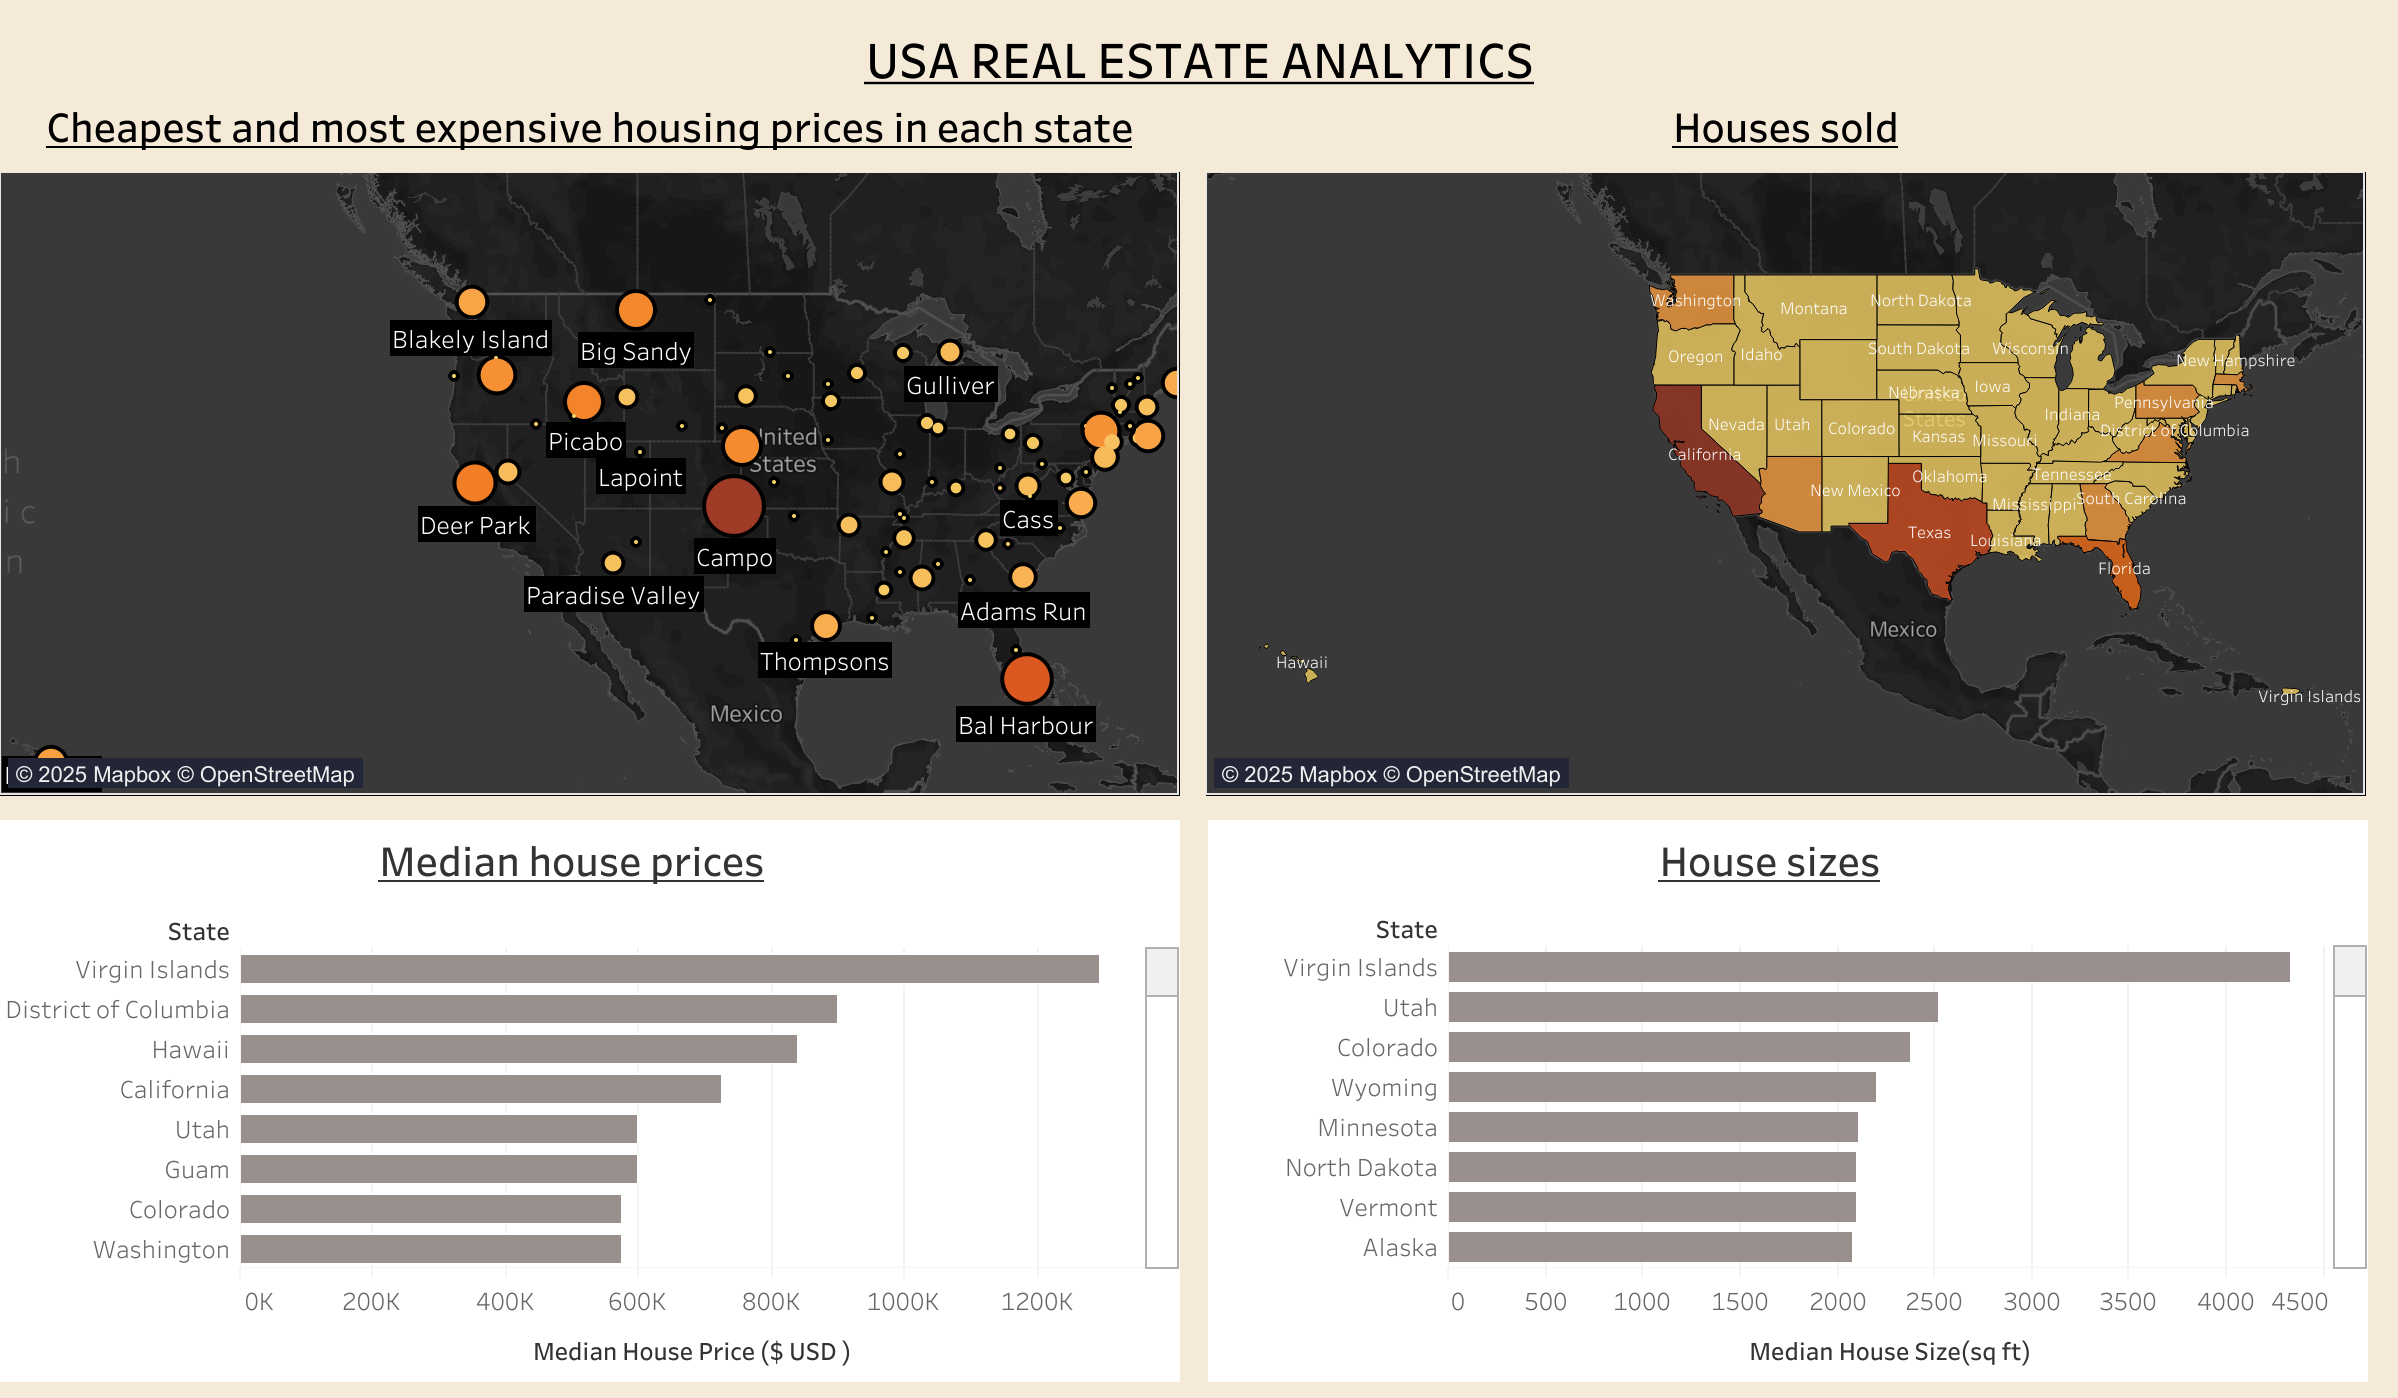

The page's visual inventory and layout, read from the dashboard file:
{"tool":"tableau","page":{"name":"USA REAL ESTATE ANALYTICS","canvas":[1000,1000],"units":"permille","ordinal":0},"visuals":[{"type":"title","box":[6.7,11.4,986.7,58.6]},{"type":"worksheet","title":"house_prices","mark":"Automatic","box":[0,60.9,491.7,507.6]},{"type":"worksheet","title":"houses_sold","mark":"Multipolygon","box":[502.5,60.9,483.3,507.6]},{"type":"worksheet","title":"median_house_prices","mark":"Automatic","rows":["state"],"cols":["median_house_price"],"box":[0,586.3,491.7,401]},{"type":"worksheet","title":"house_size","mark":"Automatic","rows":["state"],"cols":["median_house_size"],"box":[503.3,586.3,483.3,401]}]}

Visuals, with their boxes on the dashboard's canvas, which has no fixed pixel size, in thousandths of its width and height (x1, y1, x2, y2). These are canvas units, not pixel positions in the 2398x1398 screenshot, which may show the page scaled, cropped or inside an application window:
title: crop(7, 11, 993, 70)
"house_prices" worksheet: crop(0, 61, 492, 568)
"houses_sold" worksheet (Multipolygon marks): crop(502, 61, 986, 568)
"median_house_prices" worksheet: crop(0, 586, 492, 987)
"house_size" worksheet: crop(503, 586, 987, 987)
